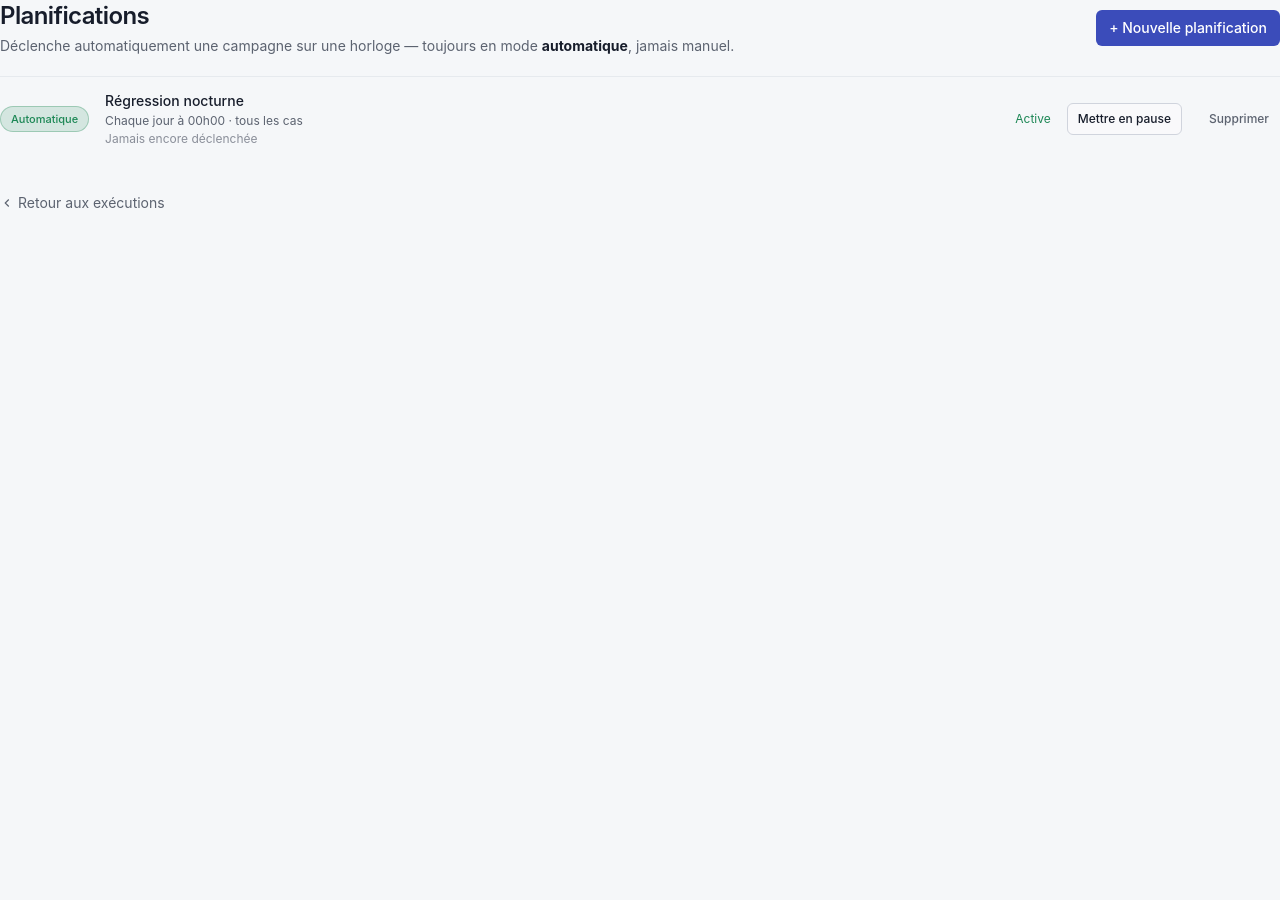
Scenario: SchedulesList — toujours automatique, jamais de choix de mode › le formulaire de création NE PROPOSE AUCUN choix manuel/automatique
Click the button "+ Nouvelle planification".
click(1188, 28)  # box x1=1096 y1=10 x2=1279 y2=46
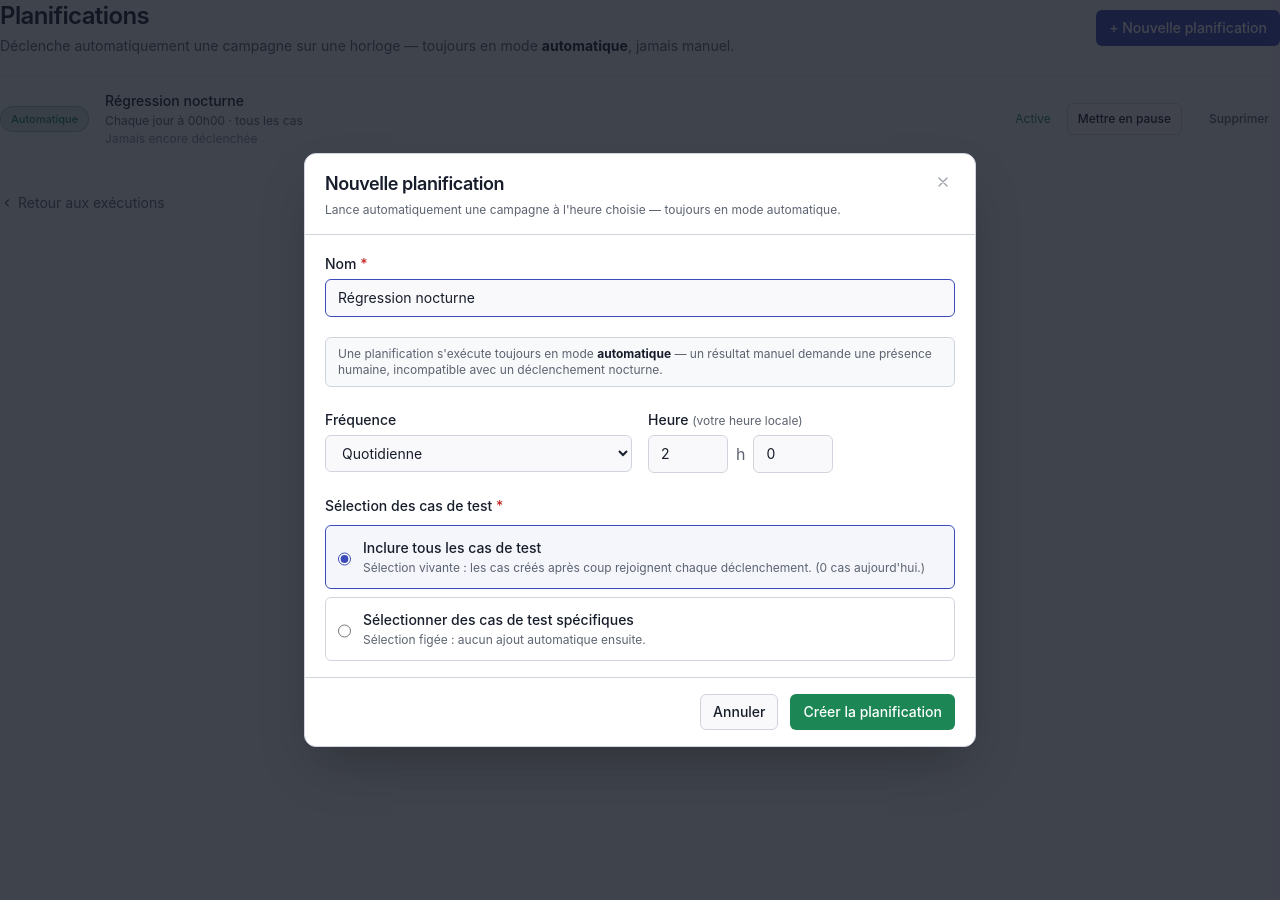
Result: the form with id "form-create-schedule" is shown at x1=325 y1=251 x2=955 y2=661
Result: the form with id "form-create-schedule" shows "toujours en mode" at x1=338 y1=346 x2=597 y2=361
